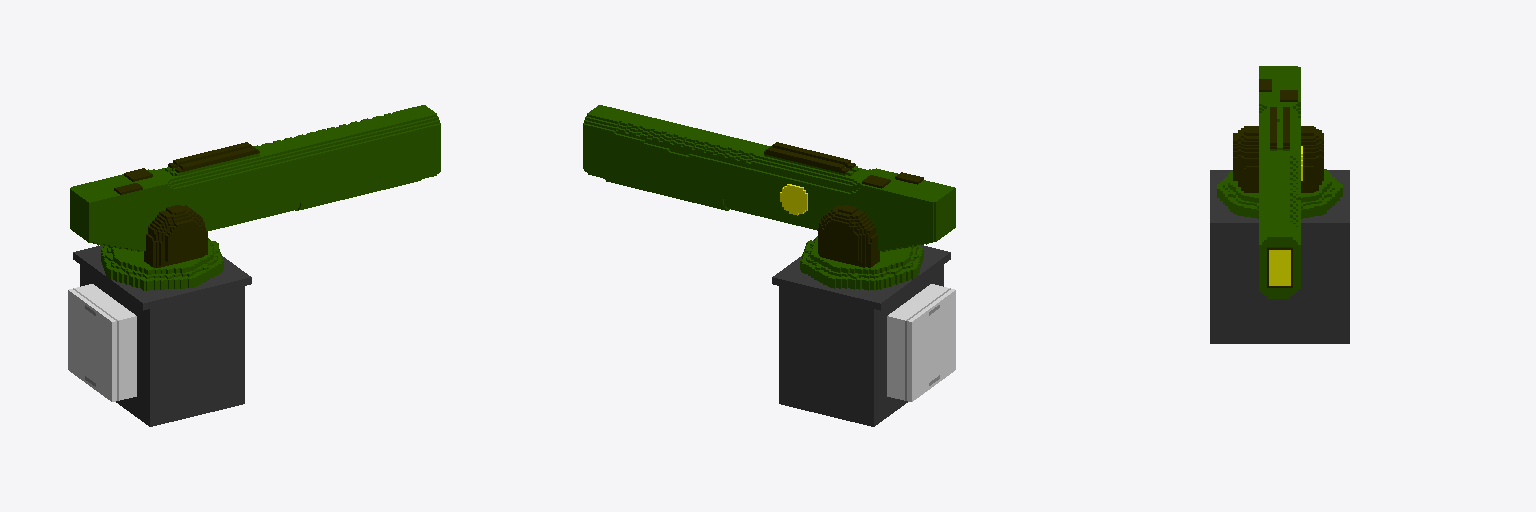
3 renders of one model, left to right at view 1: azimuth 30°, elevation 25°; view 2: azimuth 150°, elevation 25°; view 3: azimuth 270°, elevation 25°, orthographic.
Visible parts, largest first — view 1: Machine_w_box_57; view 2: Machine_w_box_57; view 3: Machine_w_box_57.
Boxes of the visible parts, <box> form: Machine_w_box_57: <box>68,105,440,426</box>; Machine_w_box_57: <box>583,105,955,426</box>; Machine_w_box_57: <box>1210,66,1349,343</box>.
Bounding box in the file's own units: 15.7 × 9.4 × 5.4.
Materials: 1 (1 with a texture image).